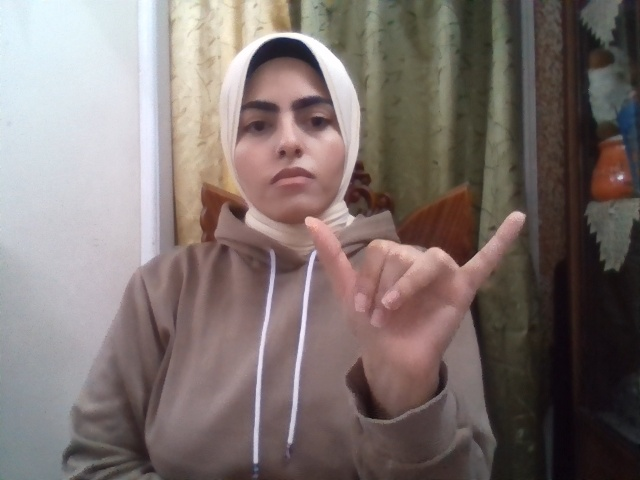Y: (305, 211, 526, 384)
